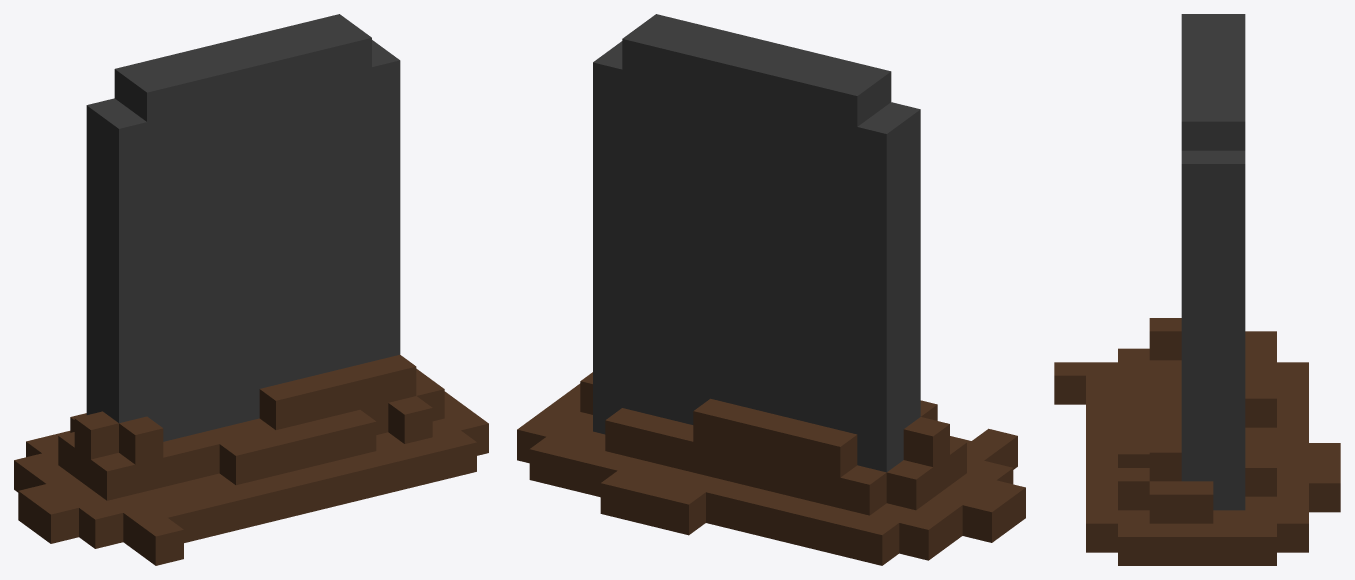
The model's file is Lapide 07.obj.
3 views of the same model, side by side, from view 1: azimuth 30°, elevation 25°; view 2: azimuth 150°, elevation 25°; view 3: azimuth 270°, elevation 25° (orthographic). The views are drawn at different scales.
Size of the model in its own units: 1.5 by 1.4 by 0.9.
Materials: 1 (1 with a texture image).
